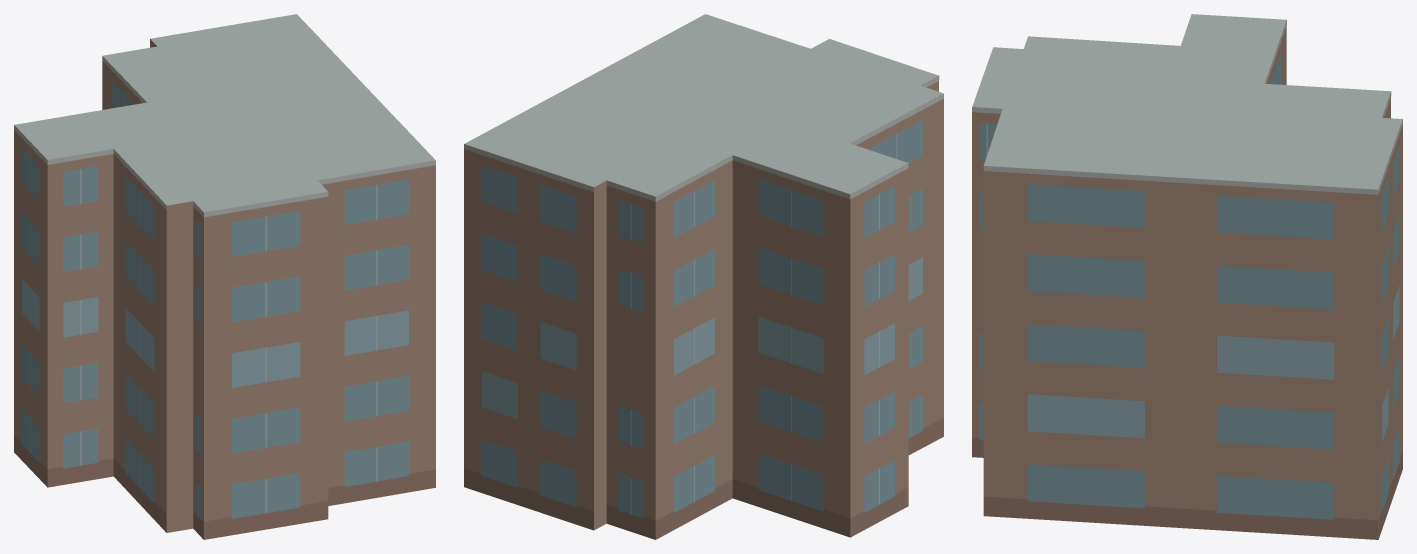
The model's file is survey-upis-33031773.glb.
3 renders of one model, left to right at view 1: azimuth 30°, elevation 25°; view 2: azimuth 150°, elevation 25°; view 3: azimuth 270°, elevation 25°, orthographic. The views are drawn at different scales.
Visible parts, largest first — view 1: survey-upis-33031773.tmp; view 2: survey-upis-33031773.tmp; view 3: survey-upis-33031773.tmp.
Boxes of the visible parts, x1,y1,x2,y2 form: survey-upis-33031773.tmp: (14, 14, 435, 539); survey-upis-33031773.tmp: (464, 14, 943, 539); survey-upis-33031773.tmp: (972, 14, 1402, 539).
Size of the model in its own units: 17.68 by 16.42 by 18.31.
